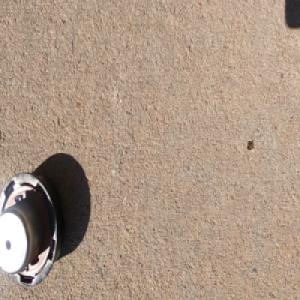FuelCap: (0, 166, 65, 289)
